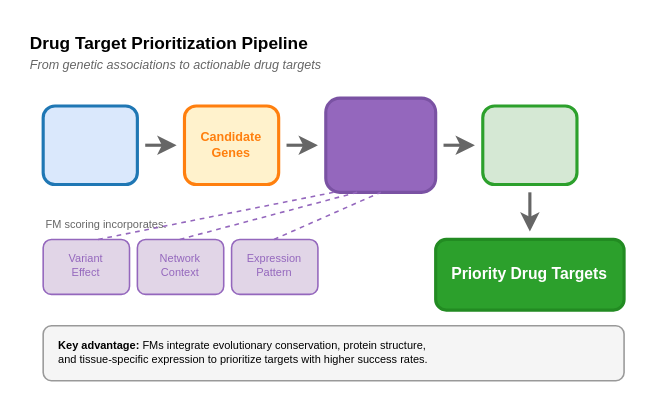
Image size: 652x408. Some labels were removed from this diagram. The centre of each missing label's shape, as x and y in pixels:
"Druggability Filter" belongs at point 529,144.
"Foundation Model Scoring" belongs at point 379,144.
"GWAS Signals" belongs at point 89,144.
